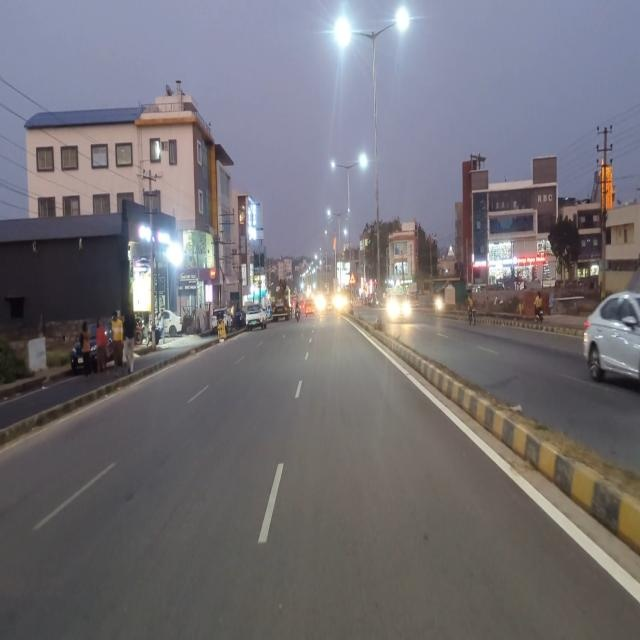bien_nguy_hiem: (348, 272, 356, 285)
